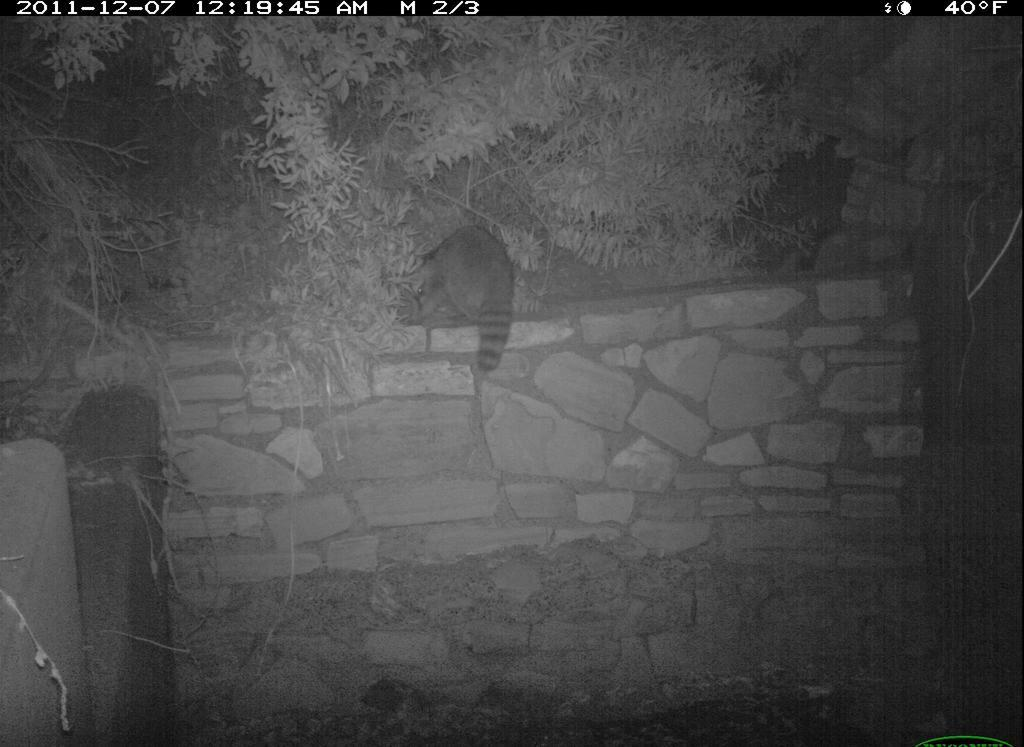raccoon: (406, 218, 520, 387)
